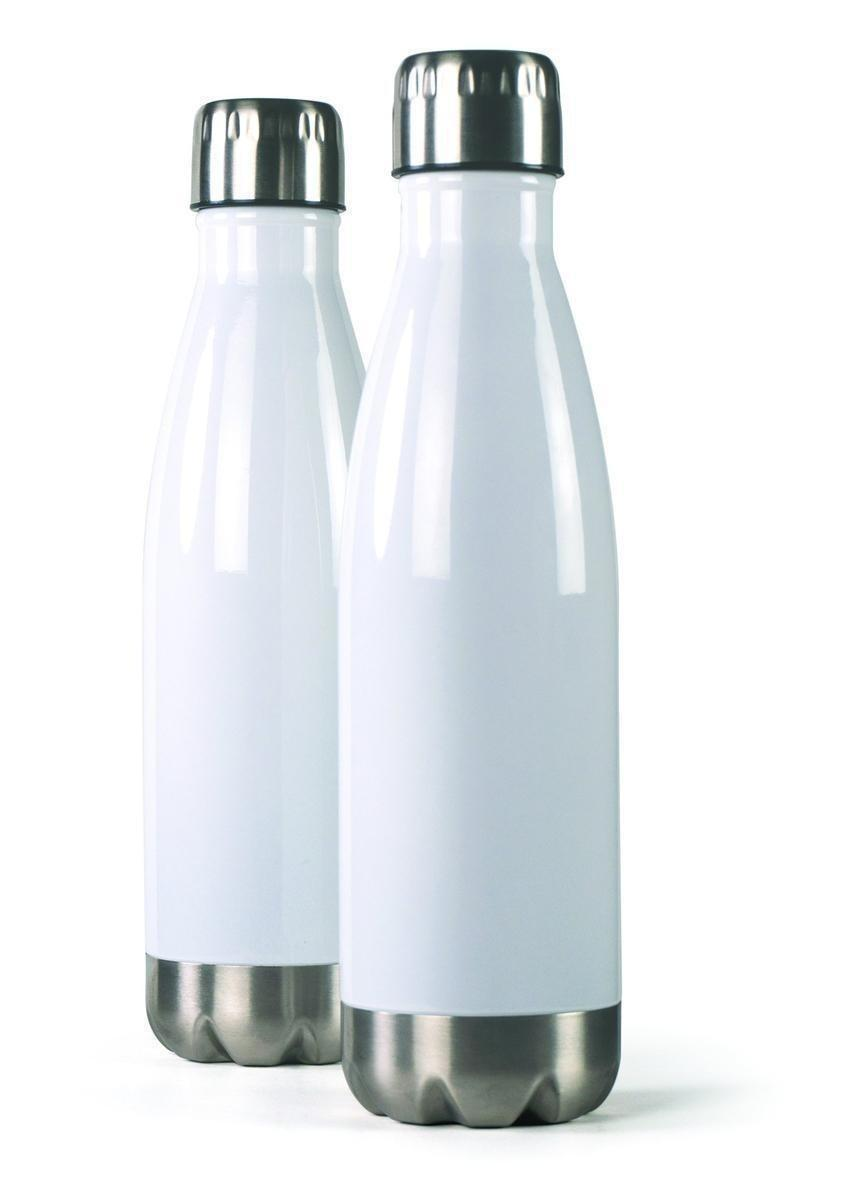gym bottle: (334, 43, 628, 1135), (124, 81, 374, 1080)
